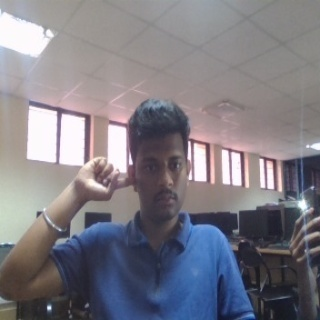Deaf: (71, 154, 135, 204)
Face: (125, 97, 192, 224)
